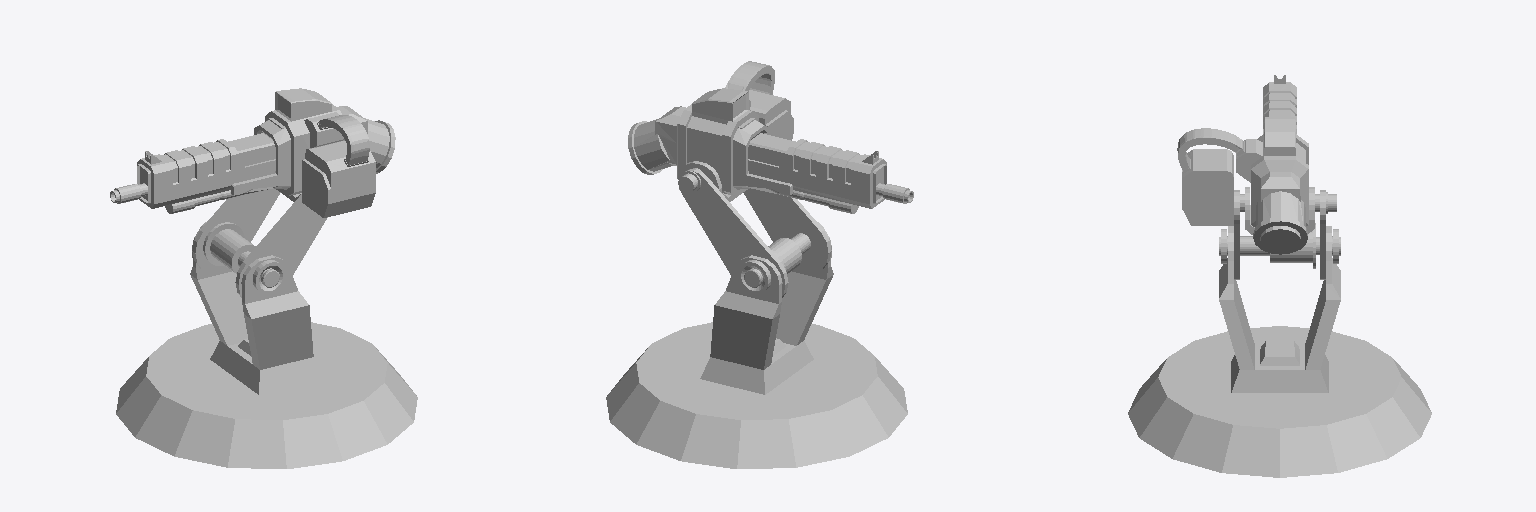
The model's file is turret.obj.
3 views of the same model, side by side, from view 1: azimuth 30°, elevation 25°; view 2: azimuth 150°, elevation 25°; view 3: azimuth 270°, elevation 25° (orthographic).
Parts seen in each view (by area): view 1: _body_Cube; view 2: _body_Cube; view 3: _body_Cube.
Part boxes in pixels (bbox=[...]): _body_Cube: bbox=[110, 88, 417, 468]; _body_Cube: bbox=[606, 61, 913, 468]; _body_Cube: bbox=[1128, 75, 1431, 477].
Bounding box in the file's own units: 7.02 × 7.15 × 6.48.